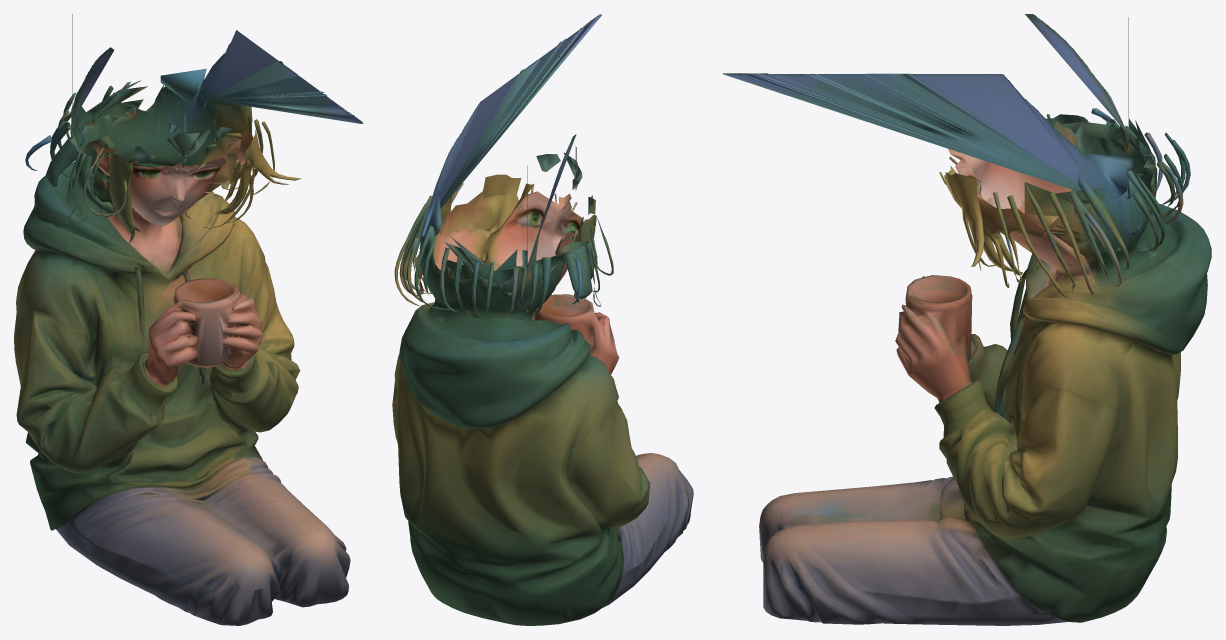
3 views of the same model, side by side, from view 1: azimuth 30°, elevation 25°; view 2: azimuth 150°, elevation 25°; view 3: azimuth 270°, elevation 25° (orthographic). The views are drawn at different scales.
Parts seen in each view (by area): view 1: material; view 2: material; view 3: material.
Part boxes in pixels (x1,y1,x2,y2): material: [14, 14, 363, 625]; material: [392, 14, 693, 625]; material: [723, 14, 1211, 625].
Size of the model in its own units: 1.08 by 1.9 by 1.56.
1 material, 1 textured.
